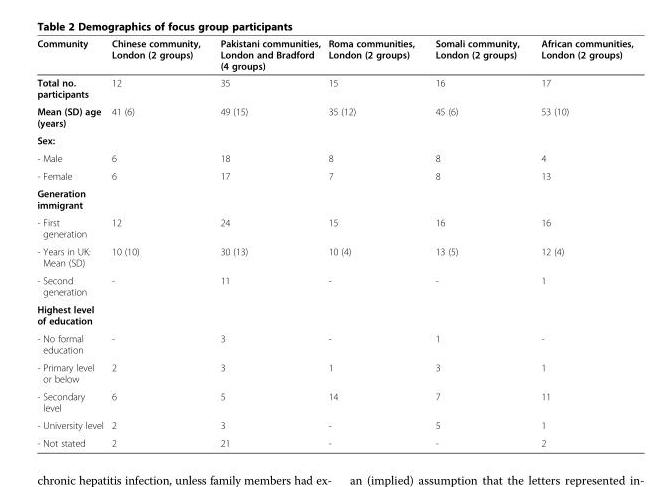table: (36, 37, 632, 448)
table column: (209, 37, 323, 448), (424, 37, 529, 448), (106, 37, 209, 448), (529, 37, 632, 448), (323, 37, 424, 448), (36, 37, 106, 448)
table column header: (36, 37, 632, 73)
table projected row header: (36, 184, 632, 213), (36, 300, 632, 329), (36, 131, 632, 149)
table row: (36, 37, 632, 73), (36, 73, 632, 102), (36, 102, 632, 131), (36, 184, 632, 213), (36, 213, 632, 242), (36, 242, 632, 271), (36, 271, 632, 300), (36, 300, 632, 329), (36, 329, 632, 358), (36, 358, 632, 387), (36, 387, 632, 416), (36, 131, 632, 149), (36, 166, 632, 184), (36, 149, 632, 166), (36, 416, 632, 433), (36, 433, 632, 448)
